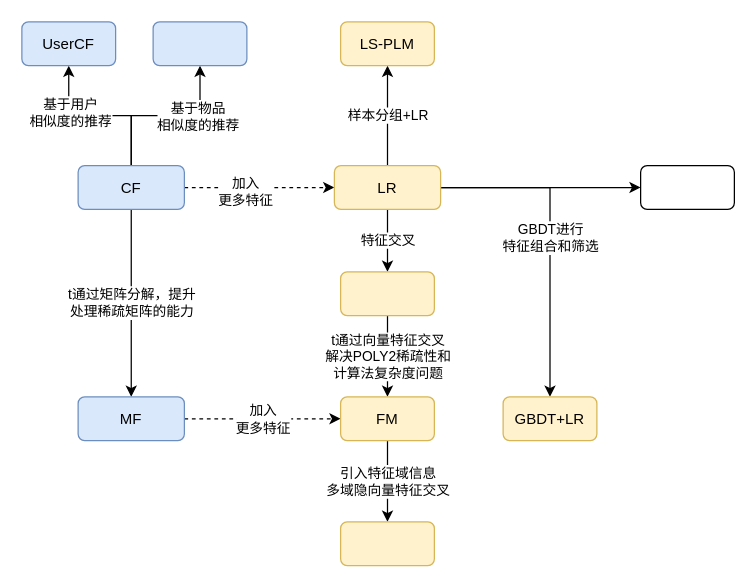
This 756x588 diagram has some shape labels left out. Each missing label, with the centre of its shape:
"FFM" goes at [386,543].
"GBDT" goes at [686,186].
"ItemCF" goes at [199,43].
"POLY2" goes at [386,293].
